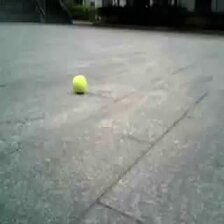tennis: (73, 75, 87, 91)
